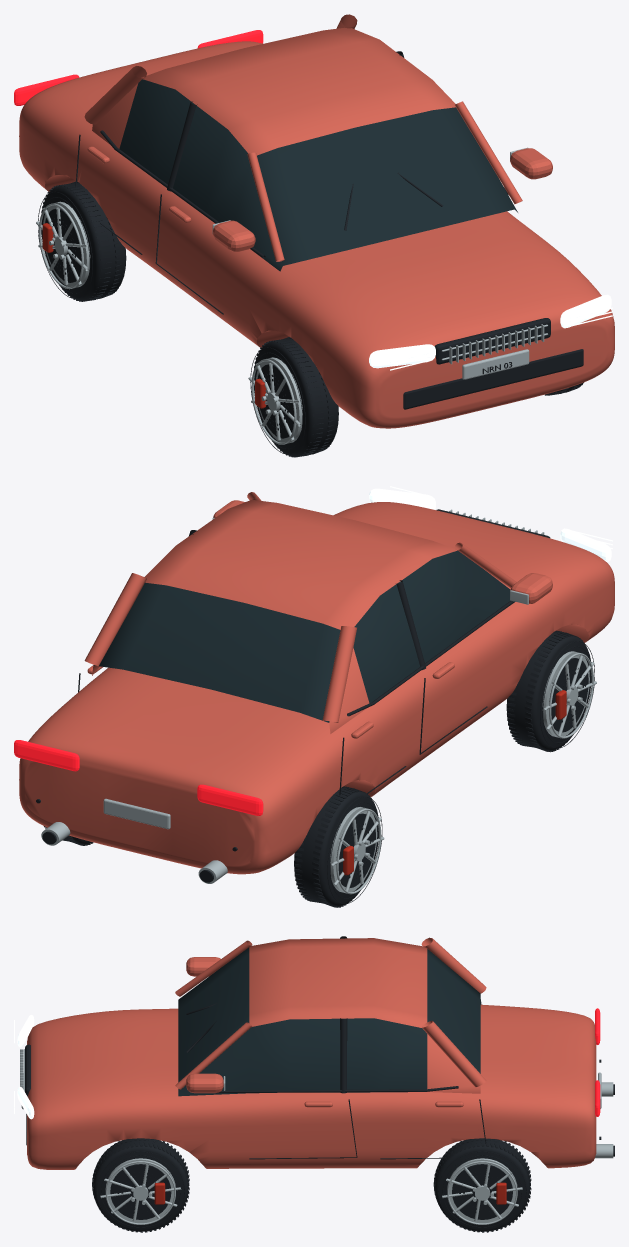
The model's file is car-3.glb.
3 renders of one model, top to bottom at view 1: azimuth 30°, elevation 25°; view 2: azimuth 150°, elevation 25°; view 3: azimuth 270°, elevation 25°, orthographic. The views are drawn at different scales.
Parts seen in each view (by area): view 1: SM_car_3_Paint, Integrated cabin, Wheel_L_Front, Wheel_L_Rear, SM_car_3_Tyres_and_trim, SM_car_3_Machined_alloy, SM_car_3_Headlight_lens, SM_car_3_Rear_LED; view 2: SM_car_3_Paint, Integrated cabin, Wheel_L_Rear, Wheel_L_Front, SM_car_3_Machined_alloy, SM_car_3_Tyres_and_trim, SM_car_3_Rear_LED, SM_car_3_Headlight_lens; view 3: SM_car_3_Paint, Integrated cabin, Wheel_R_Front, Wheel_R_Rear, SM_car_3_Machined_alloy, SM_car_3_Tyres_and_trim, SM_car_3_Headlight_lens, SM_car_3_Rear_LED.
Boxes of the visible parts, x1,y1,x2,y2 form: SM_car_3_Paint: (19, 14, 614, 428); Integrated cabin: (92, 27, 517, 271); Wheel_L_Front: (250, 337, 338, 457); Wheel_L_Rear: (38, 181, 126, 301); SM_car_3_Tyres_and_trim: (75, 51, 583, 409); SM_car_3_Machined_alloy: (36, 147, 547, 440); SM_car_3_Headlight_lens: (369, 294, 612, 370); SM_car_3_Rear_LED: (14, 30, 263, 105); SM_car_3_Paint: (19, 492, 614, 874); Integrated cabin: (92, 500, 515, 733); Wheel_L_Rear: (294, 786, 382, 907); Wheel_L_Front: (506, 630, 594, 752); SM_car_3_Machined_alloy: (41, 509, 596, 891); SM_car_3_Tyres_and_trim: (36, 509, 550, 882); SM_car_3_Rear_LED: (14, 740, 263, 815); SM_car_3_Headlight_lens: (369, 486, 612, 561); SM_car_3_Paint: (27, 937, 596, 1169); Integrated cabin: (178, 938, 480, 1096); Wheel_R_Front: (92, 1138, 189, 1232); Wheel_R_Rear: (433, 1138, 531, 1232); SM_car_3_Machined_alloy: (20, 1049, 613, 1221); SM_car_3_Tyres_and_trim: (25, 936, 614, 1159); SM_car_3_Headlight_lens: (14, 1015, 34, 1119); SM_car_3_Rear_LED: (595, 1008, 600, 1116).
Bounding box in the file's own units: 2.2 × 1.64 × 4.39.
